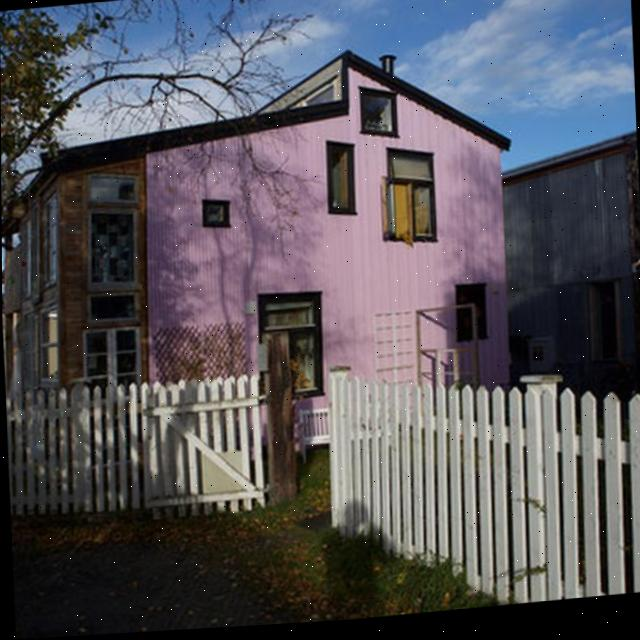building: (10, 27, 520, 501)
